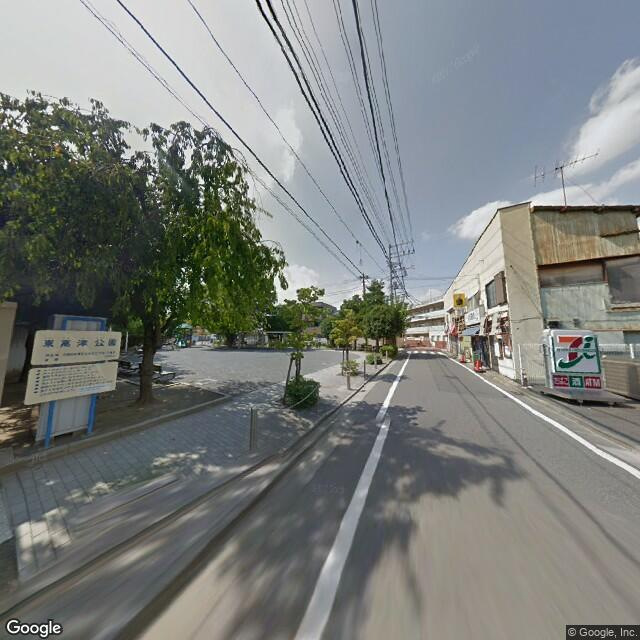7-eleven: (549, 329, 604, 375)
